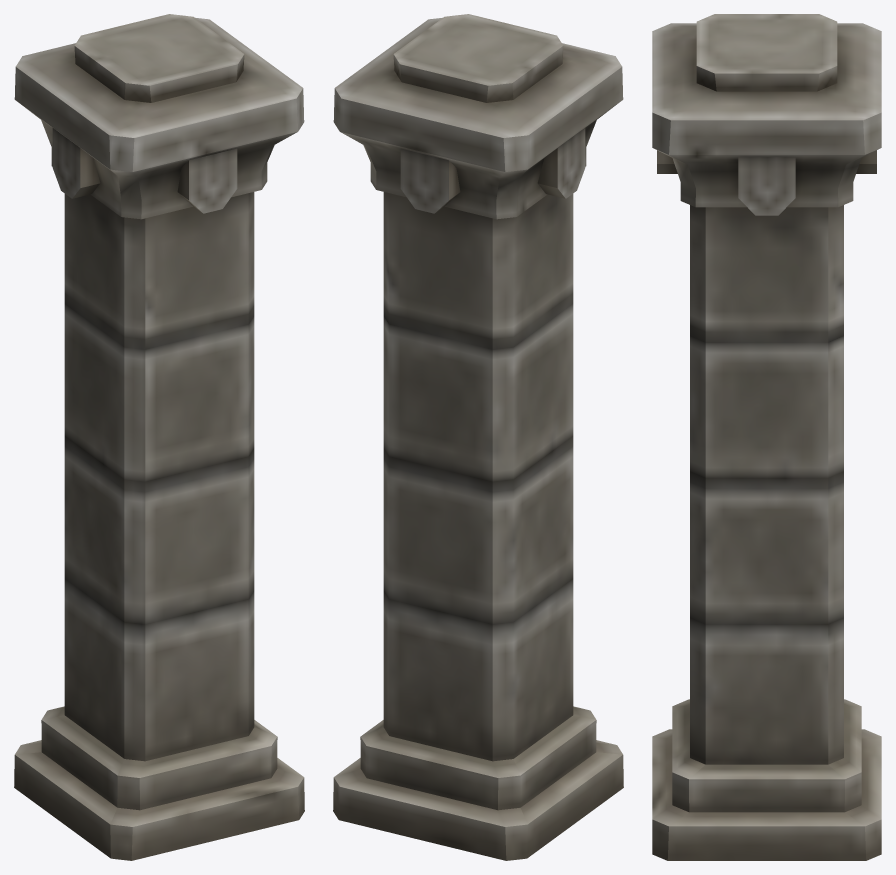
Rendered from ice_dungeon_prop_1.FBX.
The picture shows the model from 3 angles, left to right: view 1: azimuth 30°, elevation 25°; view 2: azimuth 150°, elevation 25°; view 3: azimuth 270°, elevation 25°; orthographic projection. The views are drawn at different scales.
Parts seen in each view (by area): view 1: polySurface1719; view 2: polySurface1719; view 3: polySurface1719.
Part boxes in pixels (box(x1,y1,x2,y2)): polySurface1719: box(14, 14, 304, 860); polySurface1719: box(333, 14, 623, 860); polySurface1719: box(652, 14, 881, 860).
Size of the model in its own units: 19.22 by 19.22 by 71.
Materials: 1 (1 with a texture image).
